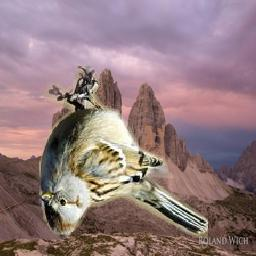Sparrow: (40, 66, 209, 238)
